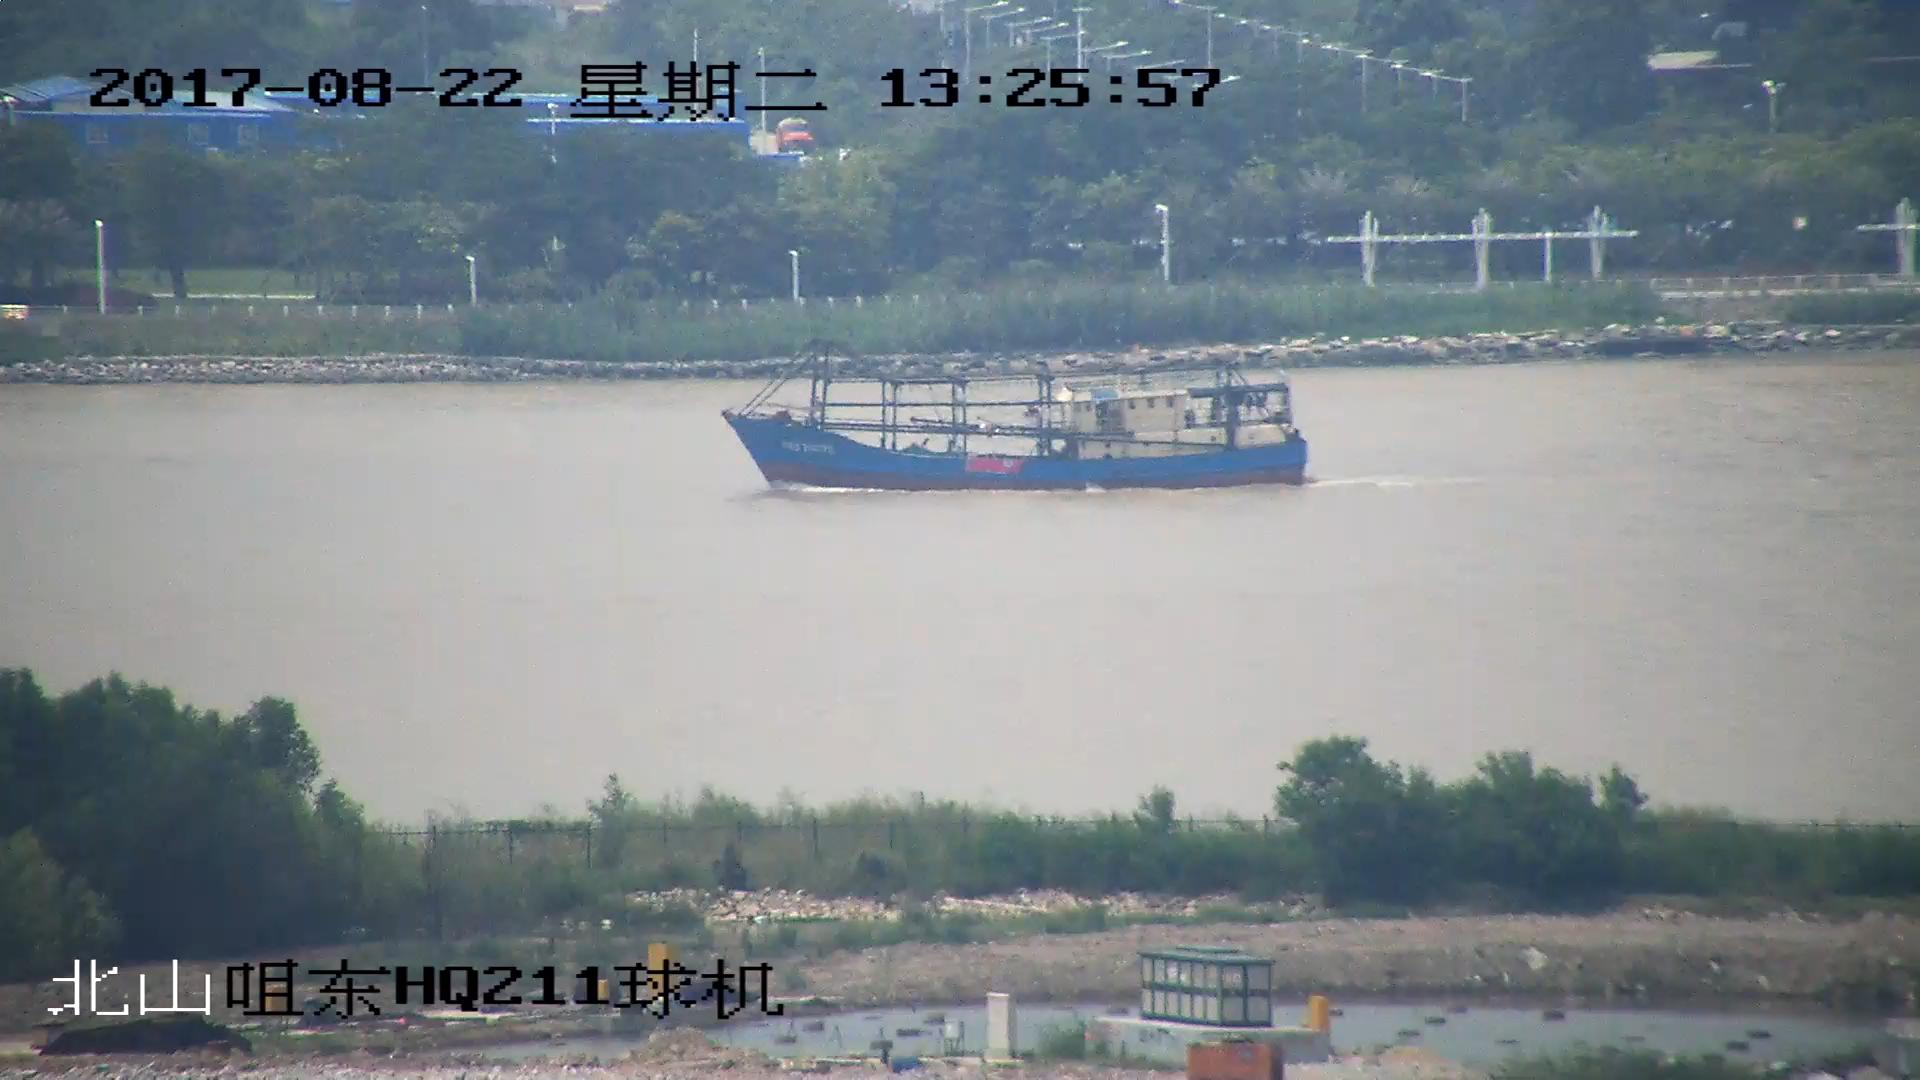fishing boat: (713, 346, 1304, 496)
